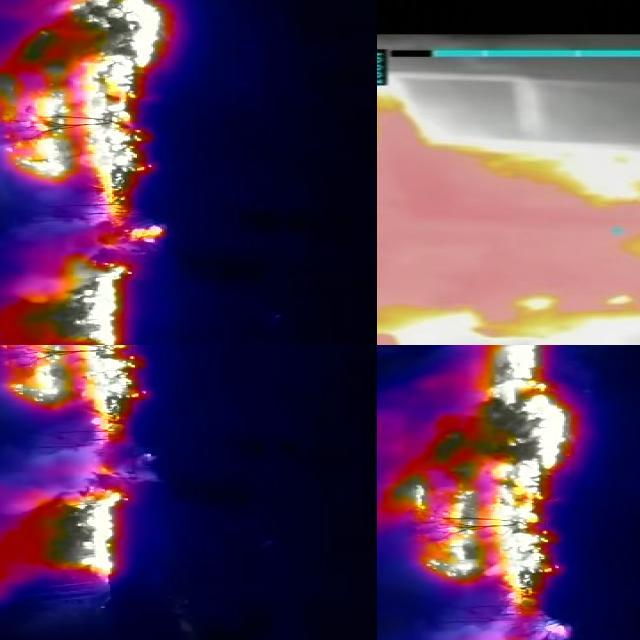fire: (378, 93, 640, 346), (388, 346, 574, 607), (1, 1, 169, 250), (1, 458, 131, 586), (1, 346, 159, 444), (1, 260, 132, 346)
